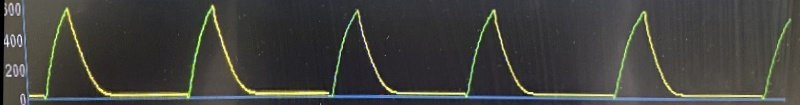normal_volume: (41, 3, 767, 105)
